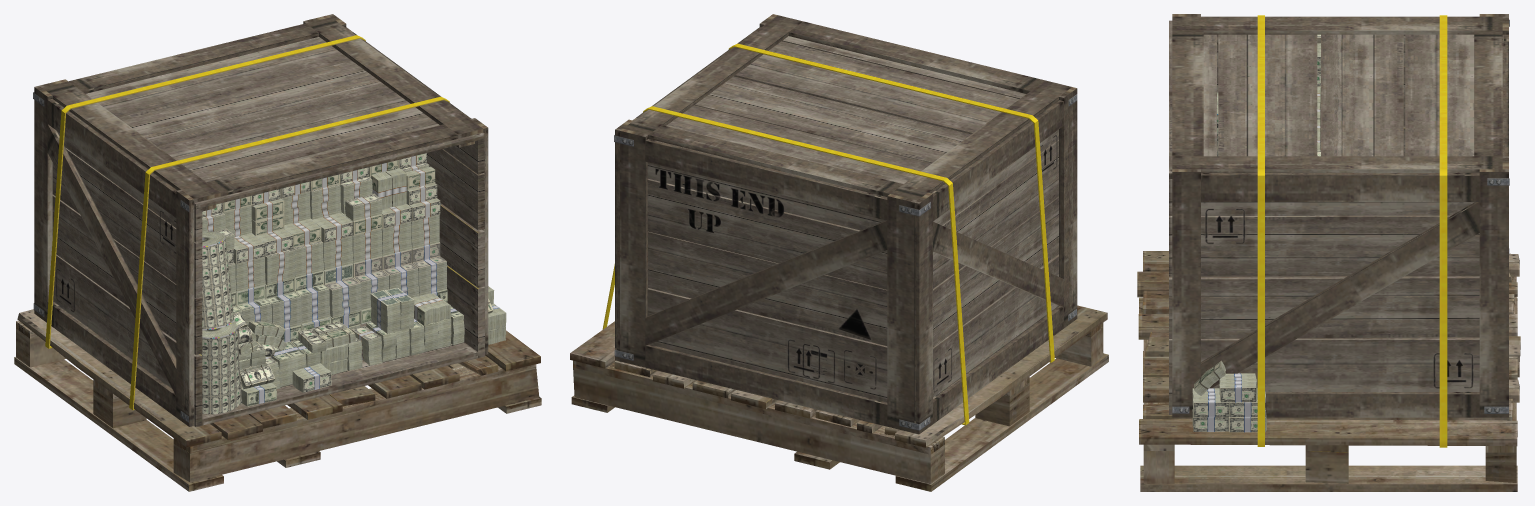
Rendered from money-crate.glb.
3 renders of one model, left to right at view 1: azimuth 30°, elevation 25°; view 2: azimuth 150°, elevation 25°; view 3: azimuth 270°, elevation 25°, orthographic. The views are drawn at different scales.
Parts seen in each view (by area): view 1: Prop_Crate_Money_BC_crate_tpage_dm_0, Prop_Crate_Money_BC_dollarbills_0, Prop_Crate_Money_BC_1_dollar_0, Prop_Crate_Money_BC_wood decal_0; view 2: Prop_Crate_Money_BC_crate_tpage_dm_0, Prop_Crate_Money_BC_wood decal_0; view 3: Prop_Crate_Money_BC_crate_tpage_dm_0, Prop_Crate_Money_BC_dollarbills_0, Prop_Crate_Money_BC_wood decal_0.
Part boxes in pixels (x1,y1,x2,y2): Prop_Crate_Money_BC_crate_tpage_dm_0: (14,14,541,491); Prop_Crate_Money_BC_dollarbills_0: (200,153,506,414); Prop_Crate_Money_BC_1_dollar_0: (324,242,446,305); Prop_Crate_Money_BC_wood decal_0: (33,92,189,422); Prop_Crate_Money_BC_crate_tpage_dm_0: (570,14,1108,491); Prop_Crate_Money_BC_wood decal_0: (614,94,1077,430); Prop_Crate_Money_BC_crate_tpage_dm_0: (1137,14,1520,491); Prop_Crate_Money_BC_dollarbills_0: (1192,34,1320,432); Prop_Crate_Money_BC_wood decal_0: (1172,19,1509,413).
Size of the model in its own units: 1.85 by 1.38 by 1.59.
4 materials, 4 textured.
